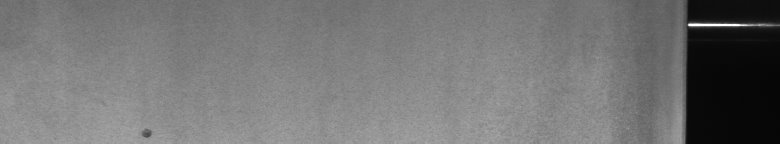fi: (136, 124, 156, 136)
